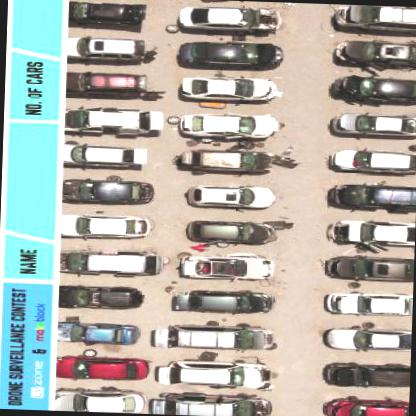car: (156, 360, 272, 392), (152, 325, 273, 353), (177, 4, 282, 34), (178, 40, 283, 70), (63, 107, 164, 138), (60, 248, 164, 278), (333, 37, 415, 72), (326, 182, 415, 214), (179, 76, 280, 104), (60, 212, 153, 242), (326, 218, 414, 249), (173, 289, 273, 316), (61, 178, 154, 207), (178, 254, 274, 282), (55, 355, 148, 383), (329, 147, 415, 177), (322, 254, 414, 282), (150, 394, 272, 415), (324, 288, 412, 317), (178, 114, 280, 139), (330, 111, 415, 141), (185, 183, 273, 211), (177, 148, 271, 174), (64, 71, 148, 100), (339, 74, 415, 106), (324, 362, 410, 390), (186, 220, 278, 246), (325, 326, 411, 353), (52, 388, 144, 413), (60, 283, 142, 311), (62, 143, 147, 170), (334, 5, 415, 33), (56, 320, 139, 347), (68, 2, 143, 30), (66, 36, 145, 62), (322, 397, 409, 415)
